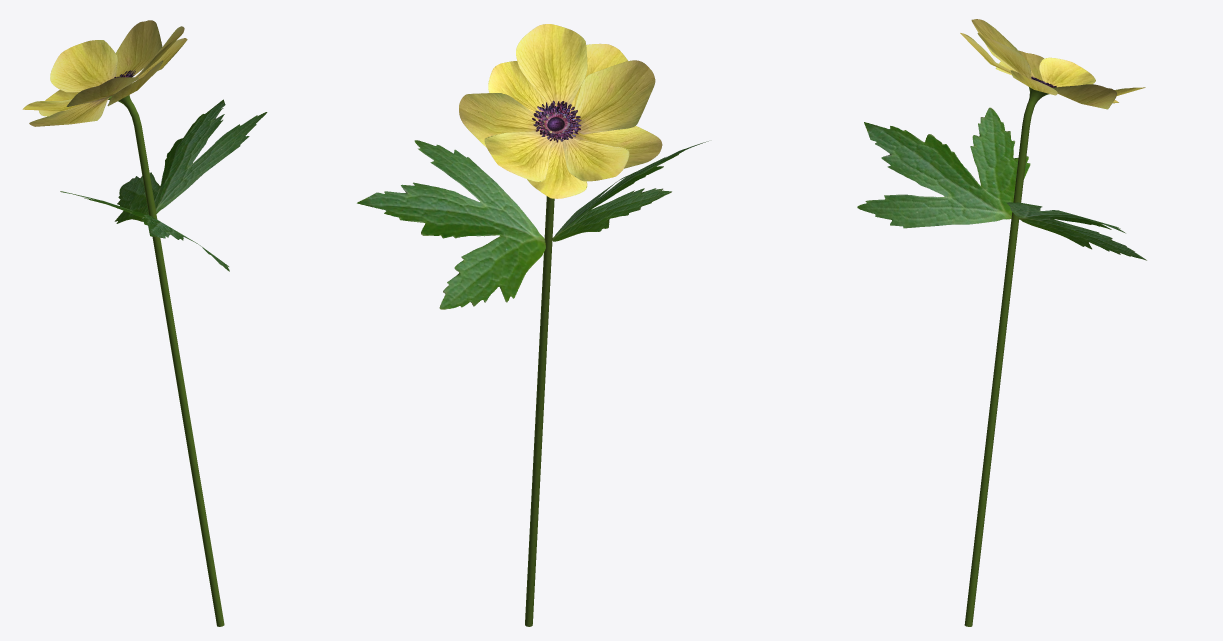
The picture shows the model from 3 angles, left to right: view 1: azimuth 30°, elevation 25°; view 2: azimuth 150°, elevation 25°; view 3: azimuth 270°, elevation 25°; orthographic projection. The views are drawn at different scales.
Visible parts, largest first — view 1: Cylinder.003; view 2: Cylinder.003; view 3: Cylinder.003.
Part boxes in pixels (bbox=[...]): Cylinder.003: bbox=[22, 20, 267, 626]; Cylinder.003: bbox=[357, 24, 708, 626]; Cylinder.003: bbox=[857, 19, 1146, 626].
Size of the model in its own units: 986 by 1652 by 1064.
Materials: 1 (1 with a texture image).
